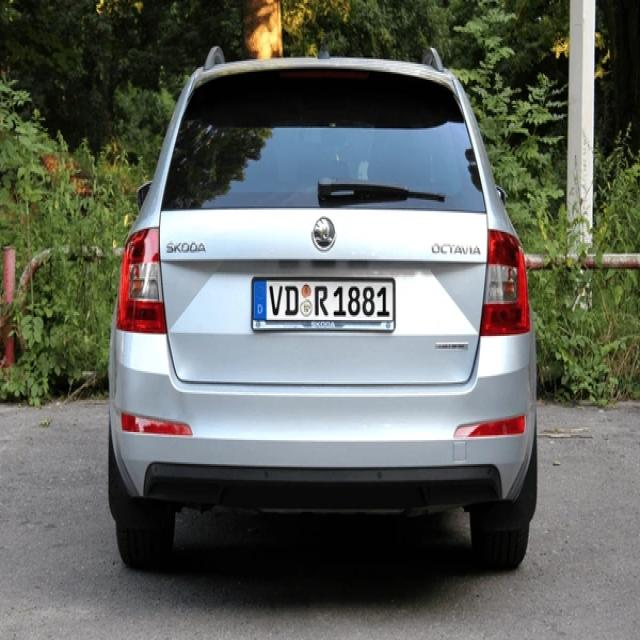skoda: (302, 215, 348, 256)
